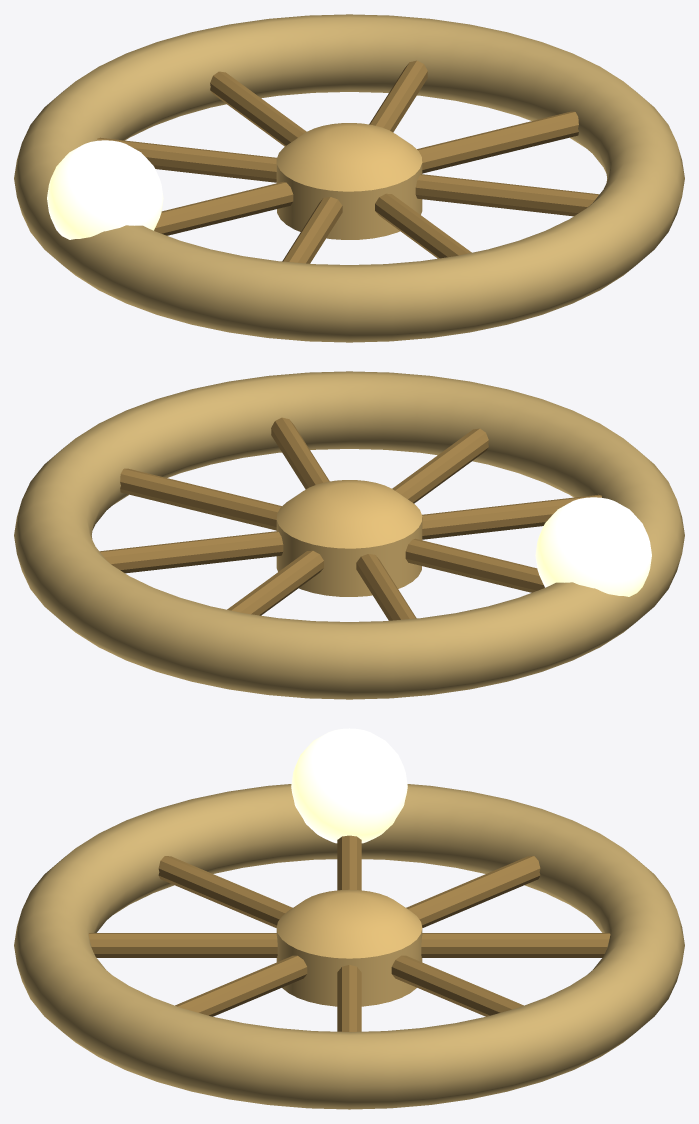
Rendered from direction-wheel-rotor-v01.glb.
3 views of the same model, one above another, from view 1: azimuth 30°, elevation 25°; view 2: azimuth 150°, elevation 25°; view 3: azimuth 270°, elevation 25° (orthographic).
Visible parts, largest first — view 1: Shadow gold 0, Shadow brass 2, Shadow brass light 1, Shadow lamp glow 3; view 2: Shadow gold 0, Shadow brass 2, Shadow brass light 1, Shadow lamp glow 3; view 3: Shadow gold 0, Shadow brass 2, Shadow brass light 1, Shadow lamp glow 3.
Part boxes in pixels (box(x1,y1,x2,y2)): Shadow gold 0: box(14, 14, 684, 342); Shadow brass 2: box(97, 60, 599, 263); Shadow brass light 1: box(276, 123, 422, 239); Shadow lamp glow 3: box(47, 140, 163, 239); Shadow gold 0: box(14, 371, 684, 699); Shadow brass 2: box(99, 417, 601, 620); Shadow brass light 1: box(276, 480, 422, 596); Shadow lamp glow 3: box(535, 497, 651, 596); Shadow gold 0: box(14, 784, 684, 1109); Shadow brass 2: box(88, 835, 610, 1031); Shadow brass light 1: box(276, 889, 422, 1006); Shadow lamp glow 3: box(291, 728, 407, 843).
Size of the model in its own units: 1.39 by 0.29 by 1.38.
